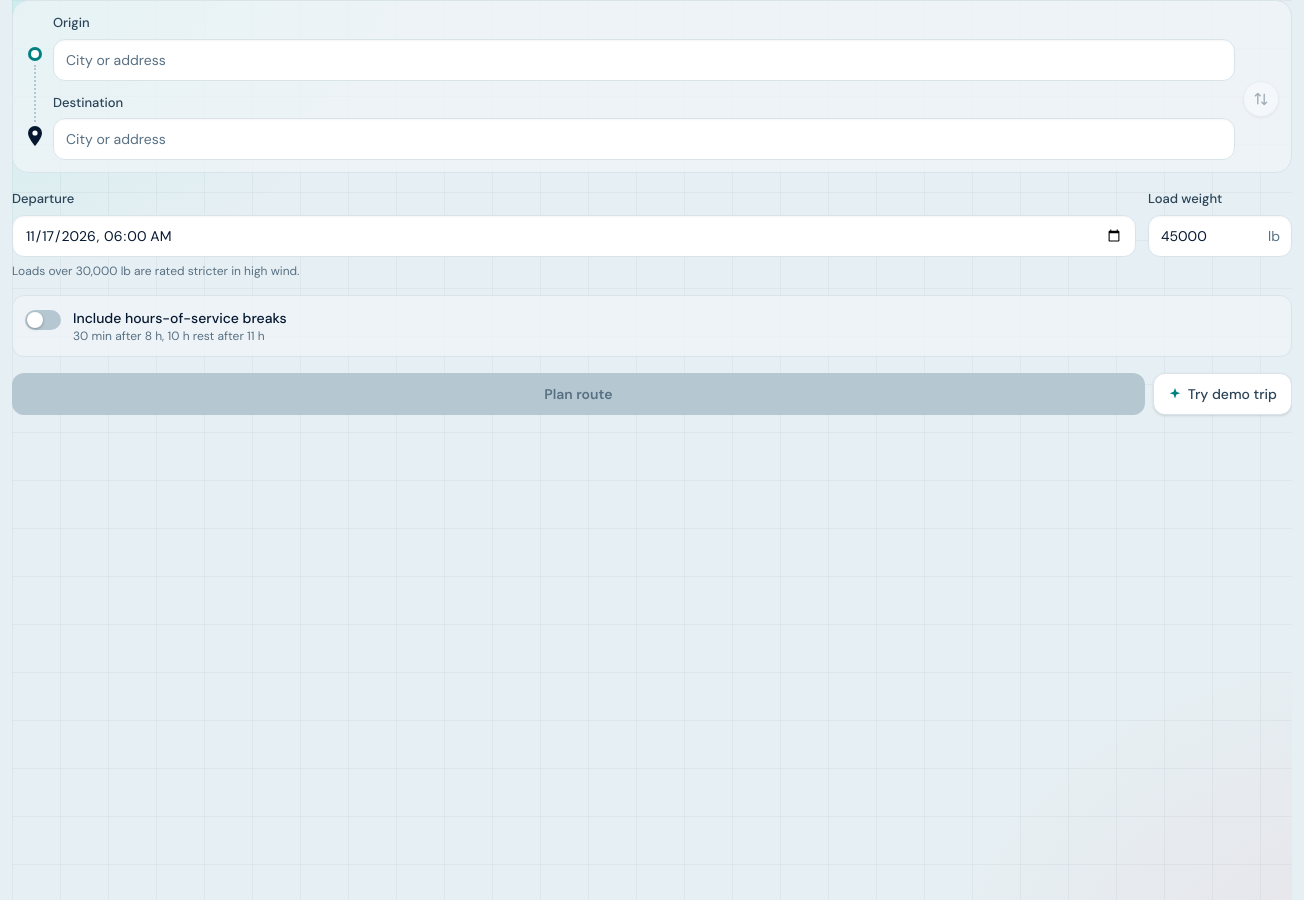
Test case: the demo button fills and submits the demo trip
What coordinates should you click on to do the following:
click the button "Try demo trip"
I would click on:
 (1222, 394)
Its box is x1=1153 y1=372 x2=1292 y2=414.
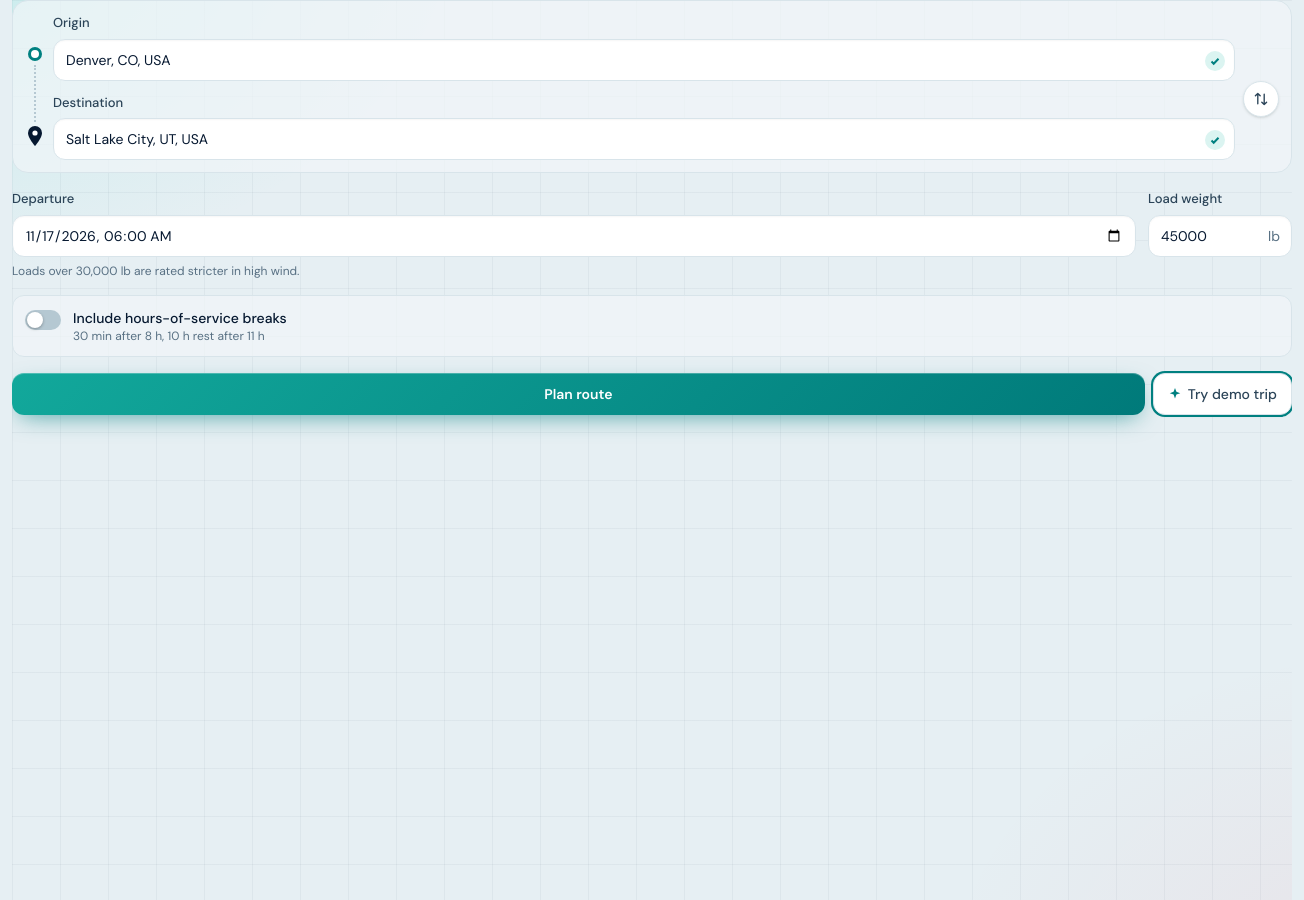
Now the dropdown labelled "Origin" holds "Denver, CO, USA", box x1=53 y1=38 x2=1235 y2=80
